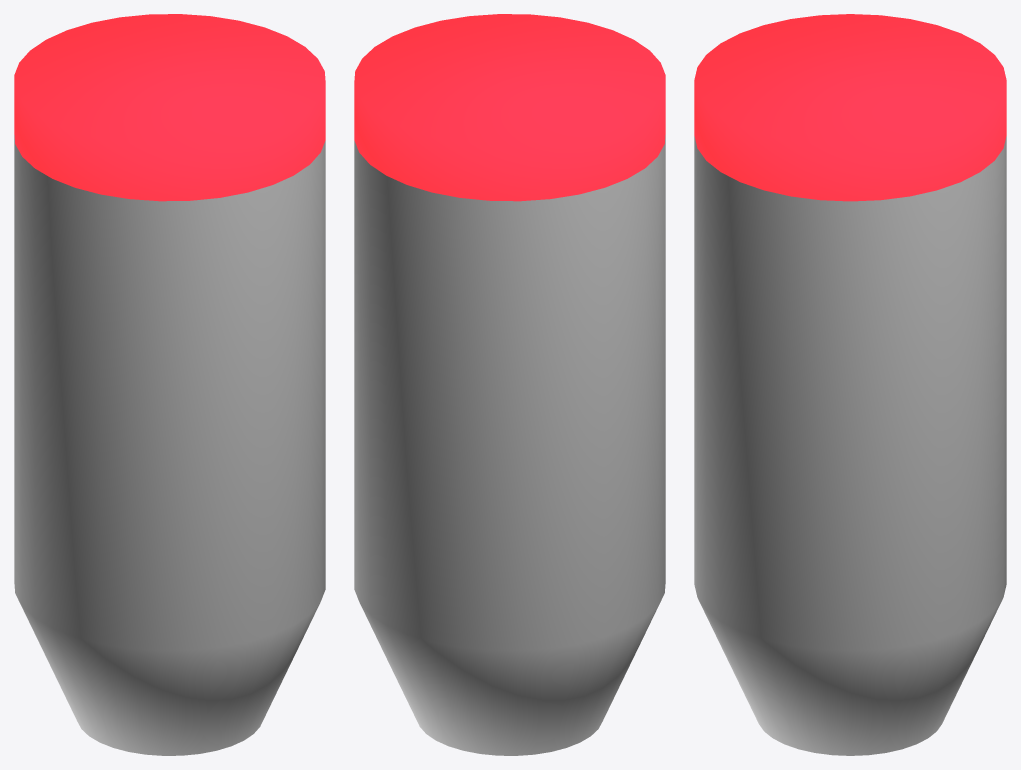
File: Bullet1.fbx
3 views of the same model, side by side, from view 1: azimuth 30°, elevation 25°; view 2: azimuth 150°, elevation 25°; view 3: azimuth 270°, elevation 25° (orthographic).
Parts seen in each view (by area): view 1: Cylinder; view 2: Cylinder; view 3: Cylinder.
Part boxes in pixels (x1,y1,x2,y2): Cylinder: [14, 14, 325, 755]; Cylinder: [354, 14, 665, 755]; Cylinder: [694, 14, 1006, 755].
Size of the model in its own units: 0.4 by 0.9 by 0.4.
